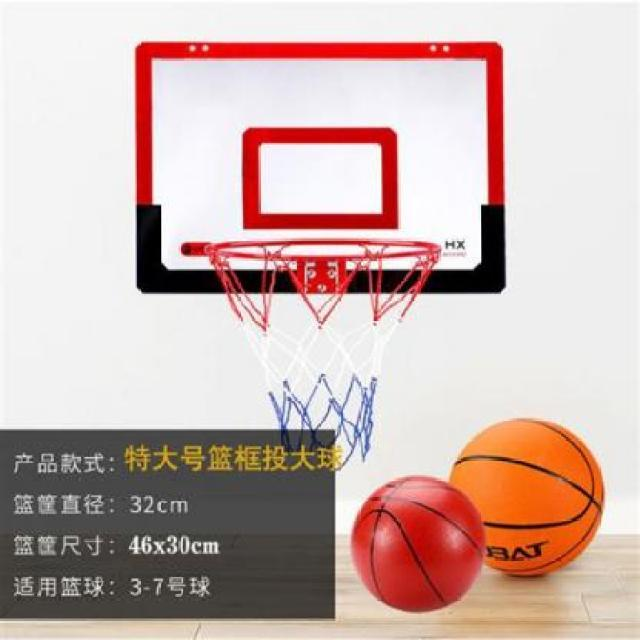basketball: (448, 418, 604, 576), (349, 474, 486, 614)
rim: (204, 238, 442, 467)
